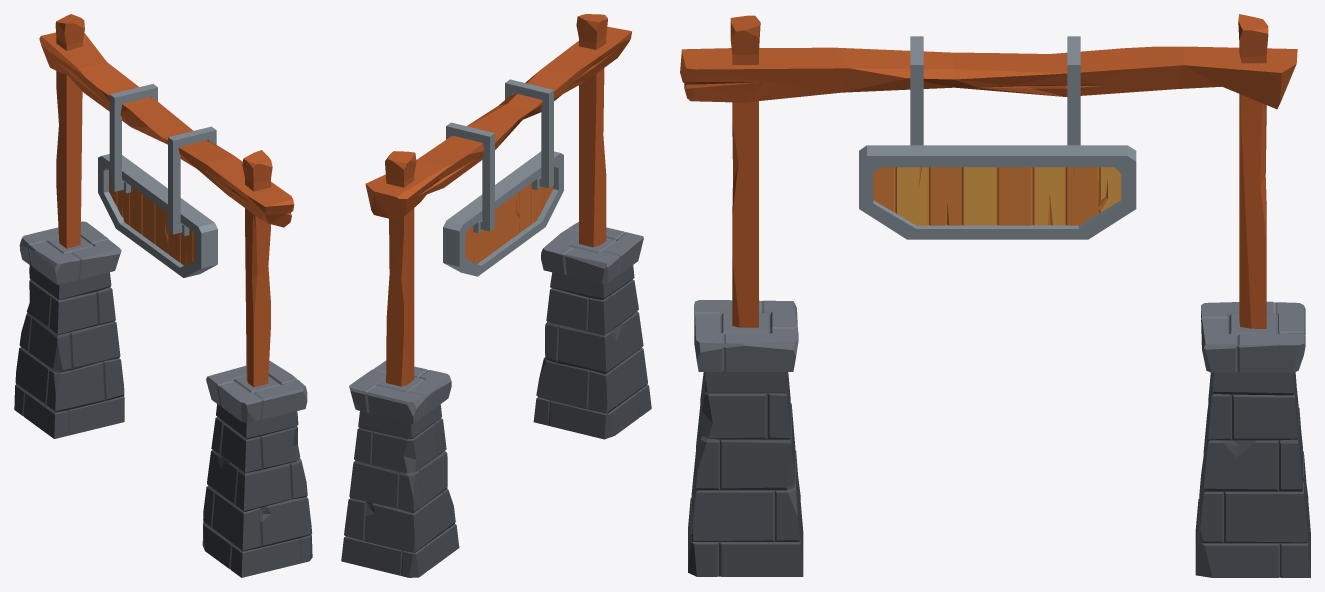
File: gate001.fbx
3 renders of one model, left to right at view 1: azimuth 30°, elevation 25°; view 2: azimuth 150°, elevation 25°; view 3: azimuth 270°, elevation 25°, orthographic. The views are drawn at different scales.
Visible parts, largest first — view 1: polySurface531; view 2: polySurface531; view 3: polySurface531.
Part boxes in pixels (left/top/right/bottom): polySurface531: left=14, top=14, right=312, bottom=577; polySurface531: left=341, top=14, right=651, bottom=577; polySurface531: left=680, top=14, right=1310, bottom=577.
Size of the model in its own units: 186 by 926 by 993.
